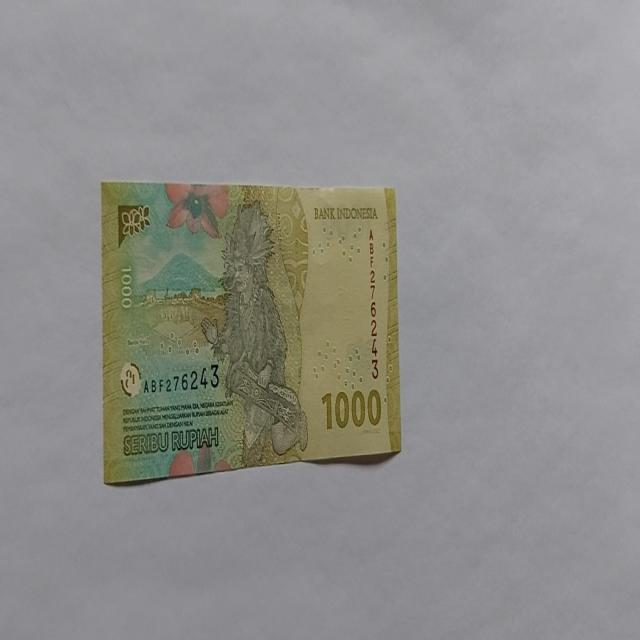seribu rupiah kertas: (100, 180, 402, 486)
